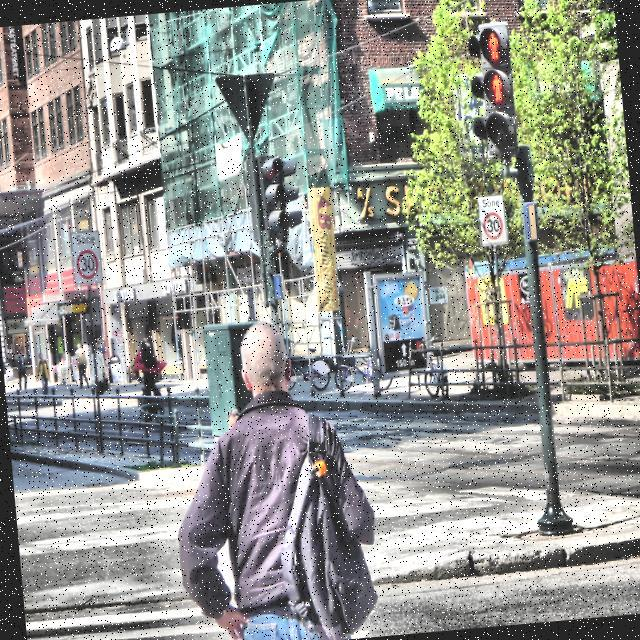red_light: (487, 31, 501, 61), (490, 73, 504, 103)
